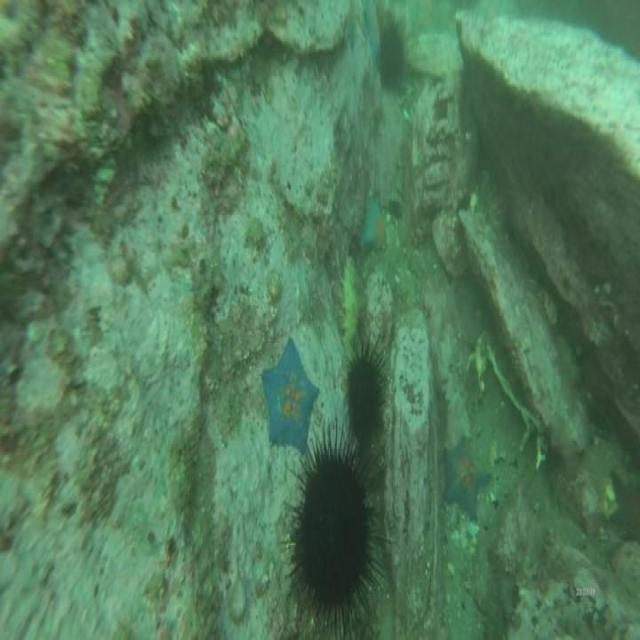echinus: (298, 455, 372, 612), (347, 352, 382, 438), (380, 25, 404, 90)
holothurian: (339, 258, 361, 360)
starfish: (262, 338, 319, 454), (443, 436, 489, 518), (362, 200, 388, 250)
